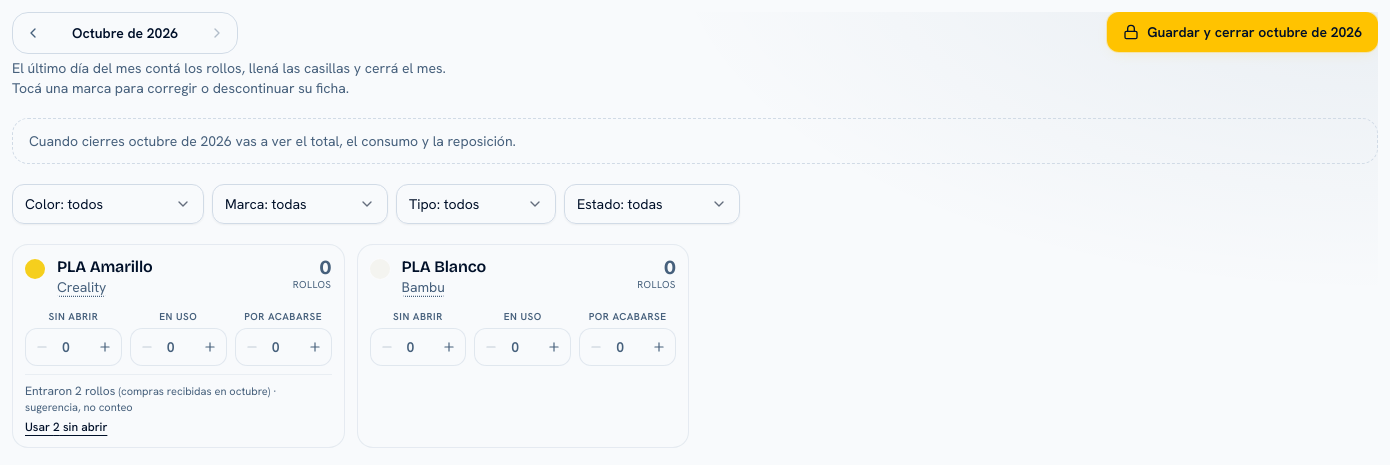
Scenario: El conteo ofrece lo que entró en el mes › al tocar la sugerencia, el número pasa a la casilla "Sin abrir"
Expected: the element labelled "PLA Amarillo Creality" is shown, [12,244,344,448]
Click the button "Usar 2 sin abrir": [66, 427] box [25,419,107,435]
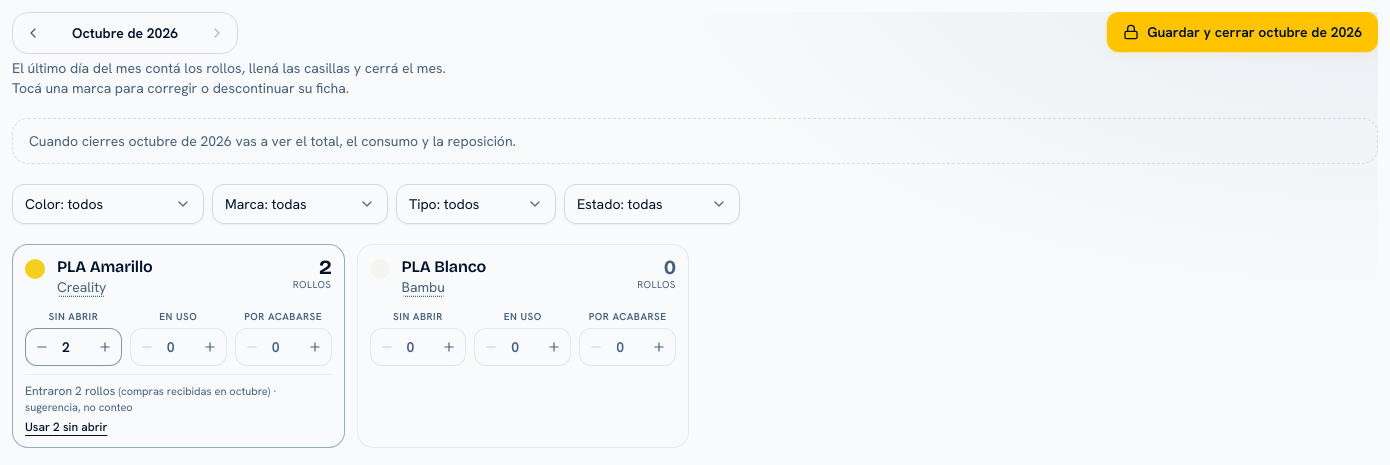
Expected: the number field named "Sin abrir · PLA Amarillo Creality" holds "2", [58,329,89,365]
